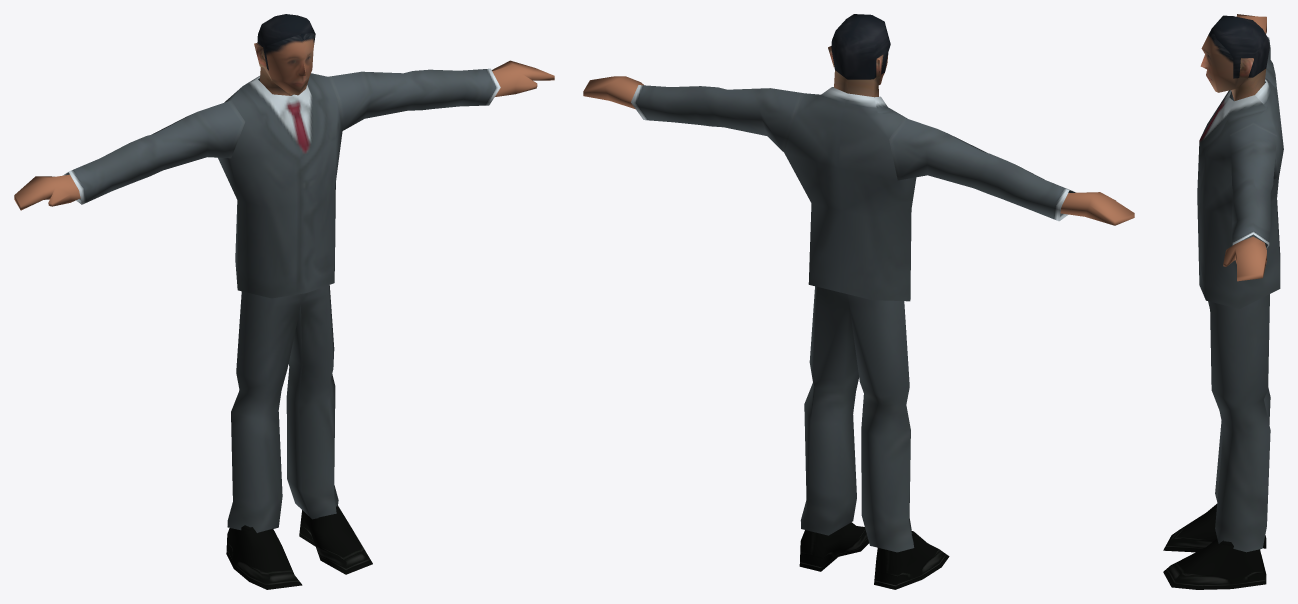
File: execmale.fbx
3 views of the same model, side by side, from view 1: azimuth 30°, elevation 25°; view 2: azimuth 150°, elevation 25°; view 3: azimuth 270°, elevation 25° (orthographic). The views are drawn at different scales.
Parts seen in each view (by area): view 1: exec; view 2: exec; view 3: exec.
Boxes of the visible parts, box(x1,y1,x2,y2) form: exec: box(14, 14, 554, 589); exec: box(583, 14, 1134, 589); exec: box(1163, 14, 1283, 589).
Bounding box in the file's own units: 6.22 × 5.99 × 1.21.
